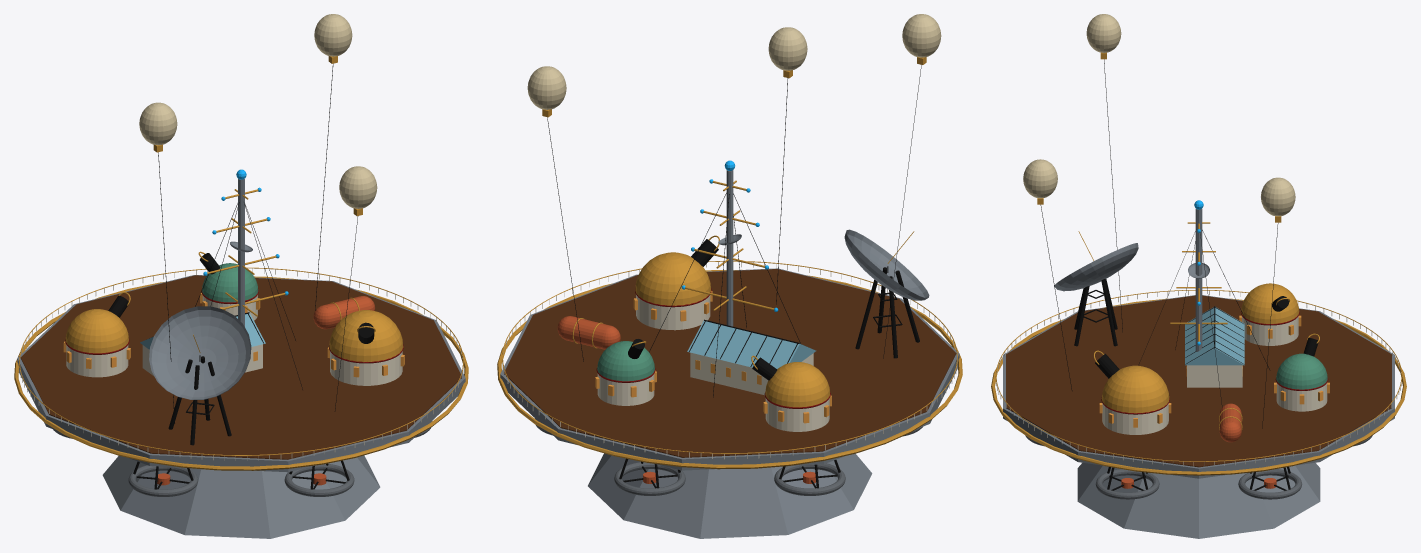
Rendered from station_science.obj.
3 views of the same model, side by side, from view 1: azimuth 30°, elevation 25°; view 2: azimuth 150°, elevation 25°; view 3: azimuth 270°, elevation 25° (orthographic). The views are drawn at different scales.
Visible parts, largest first — view 1: station_science; view 2: station_science; view 3: station_science.
Boxes of the visible parts, x1,y1,x2,y2 form: station_science: (14, 14, 468, 538); station_science: (497, 14, 962, 538); station_science: (991, 14, 1406, 538).
Bounding box in the file's own units: 1000 × 1109 × 1000.
1 material, 1 textured.
